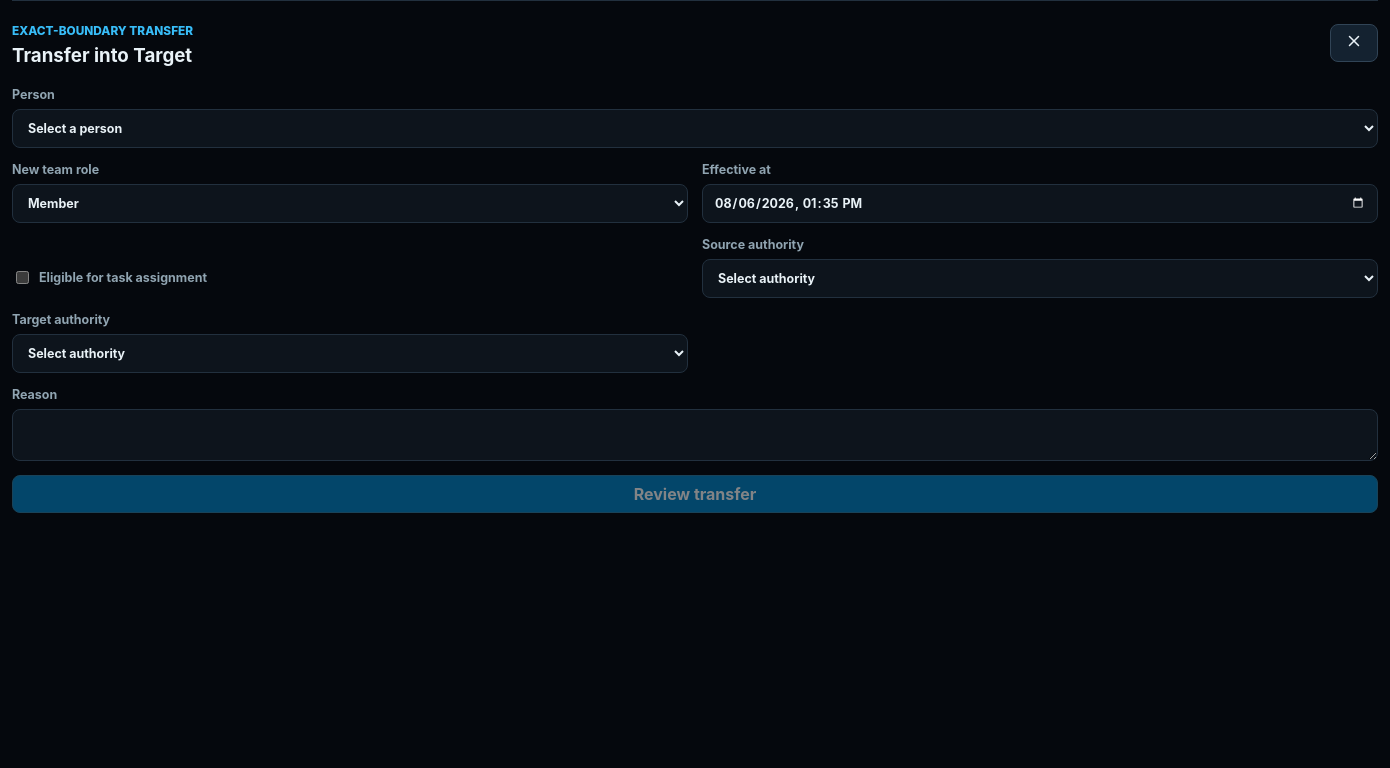
Test case: reports a failed transfer command without an authenticated session
Select "Synthetic Analyst" in the dropdown labelled "Person" at [695, 128], box [12,109,1378,148]
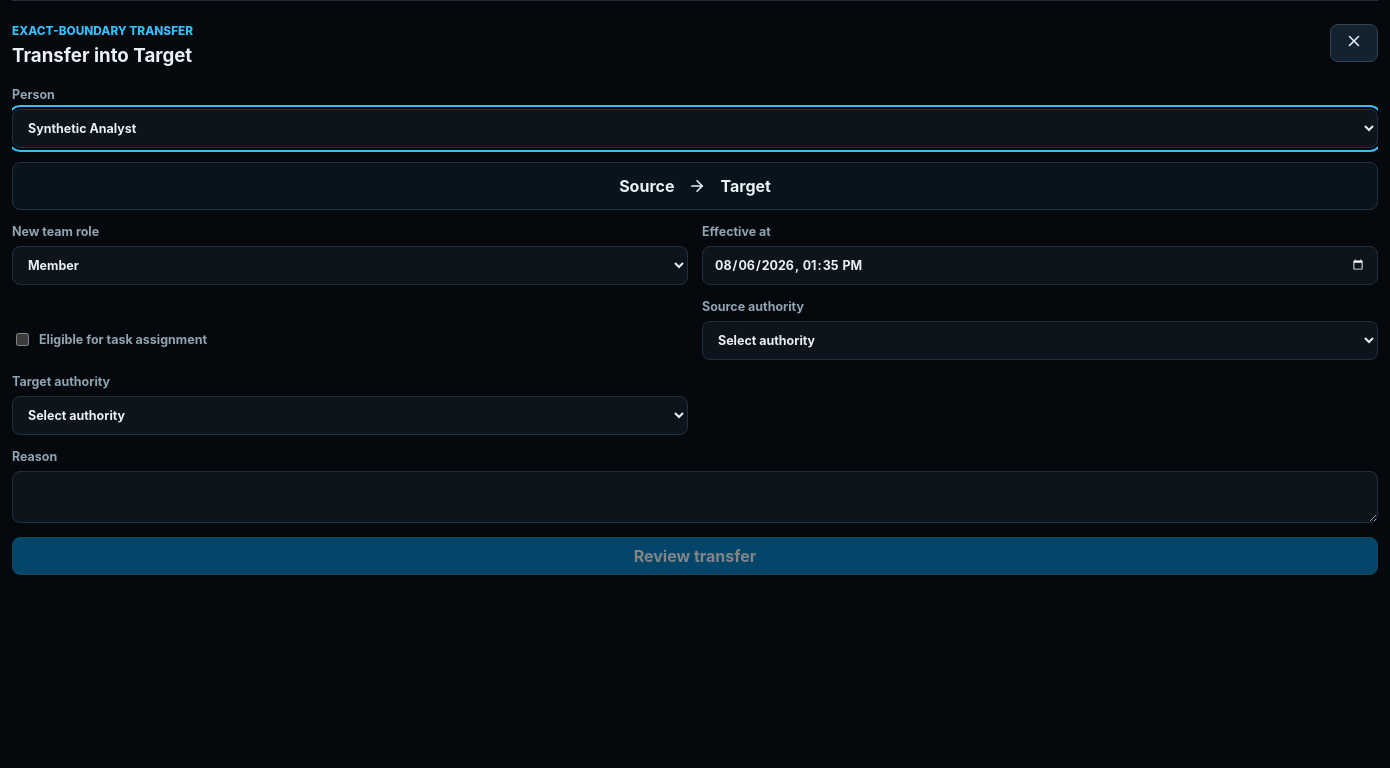
Expected: the text "Source" is shown, [619,176,674,196]
Select "Descendant scope" in the dropdown labelled "Source authority" at [1040, 340], box [702,321,1378,360]
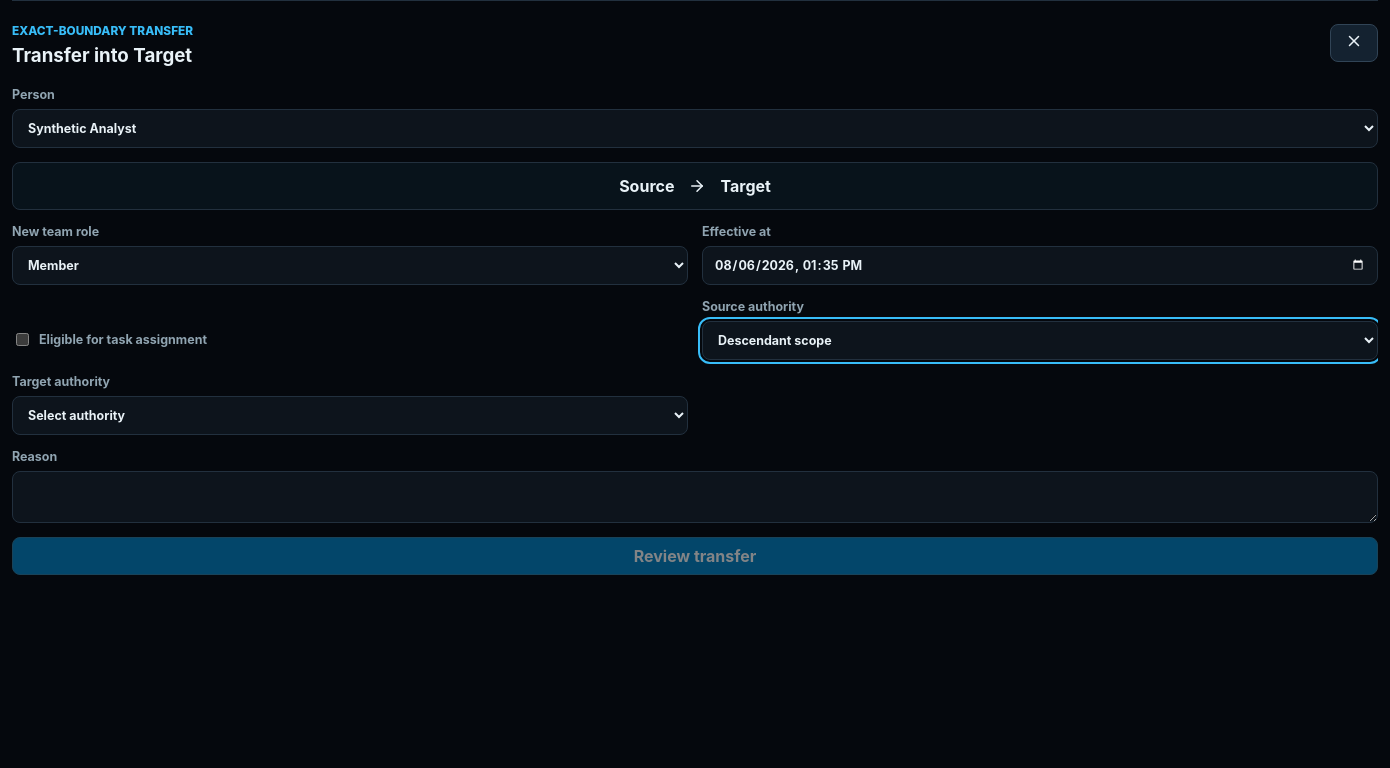
Select "Descendant scope" in the dropdown labelled "Target authority" at [350, 416], box [12,396,688,435]
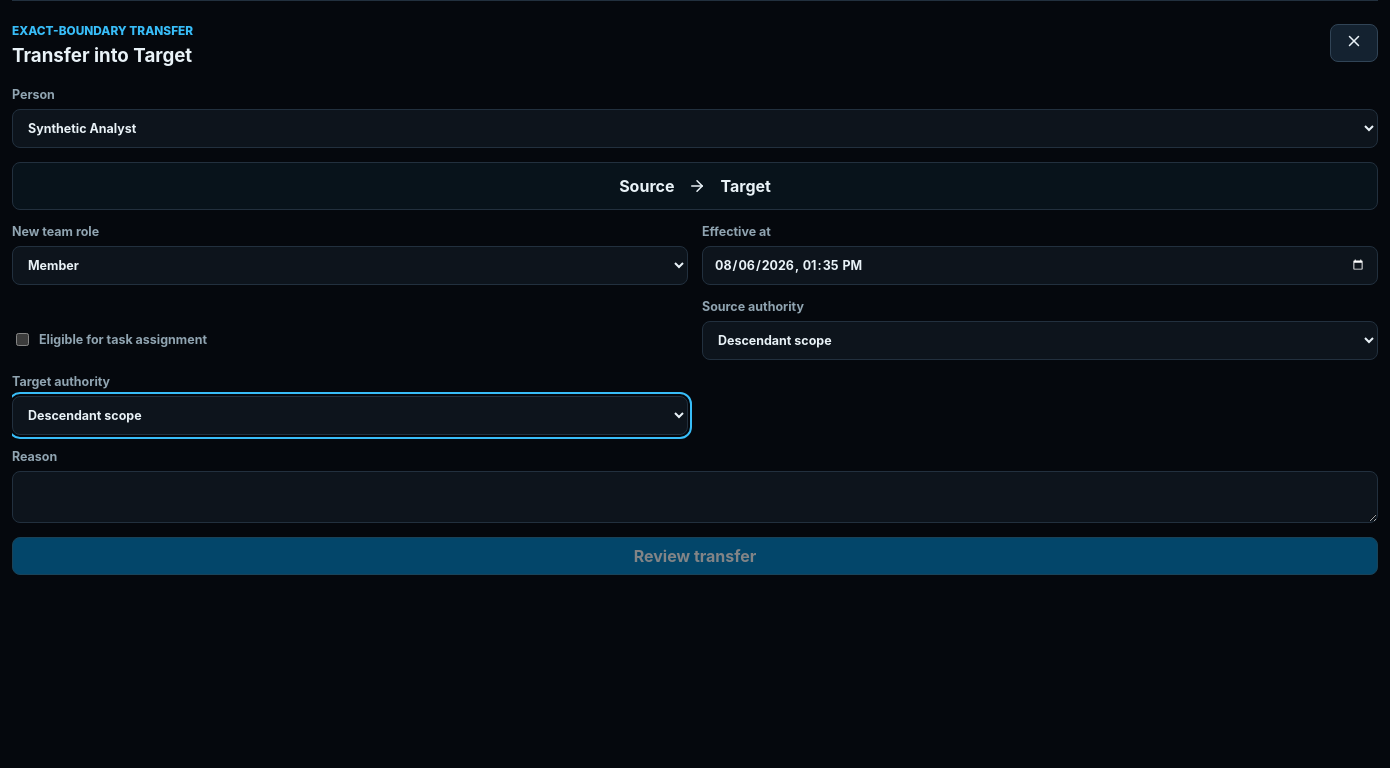
Type "Review the synthetic transfer." into the text box labelled "Reason" at [695, 497], box [12,471,1378,523]
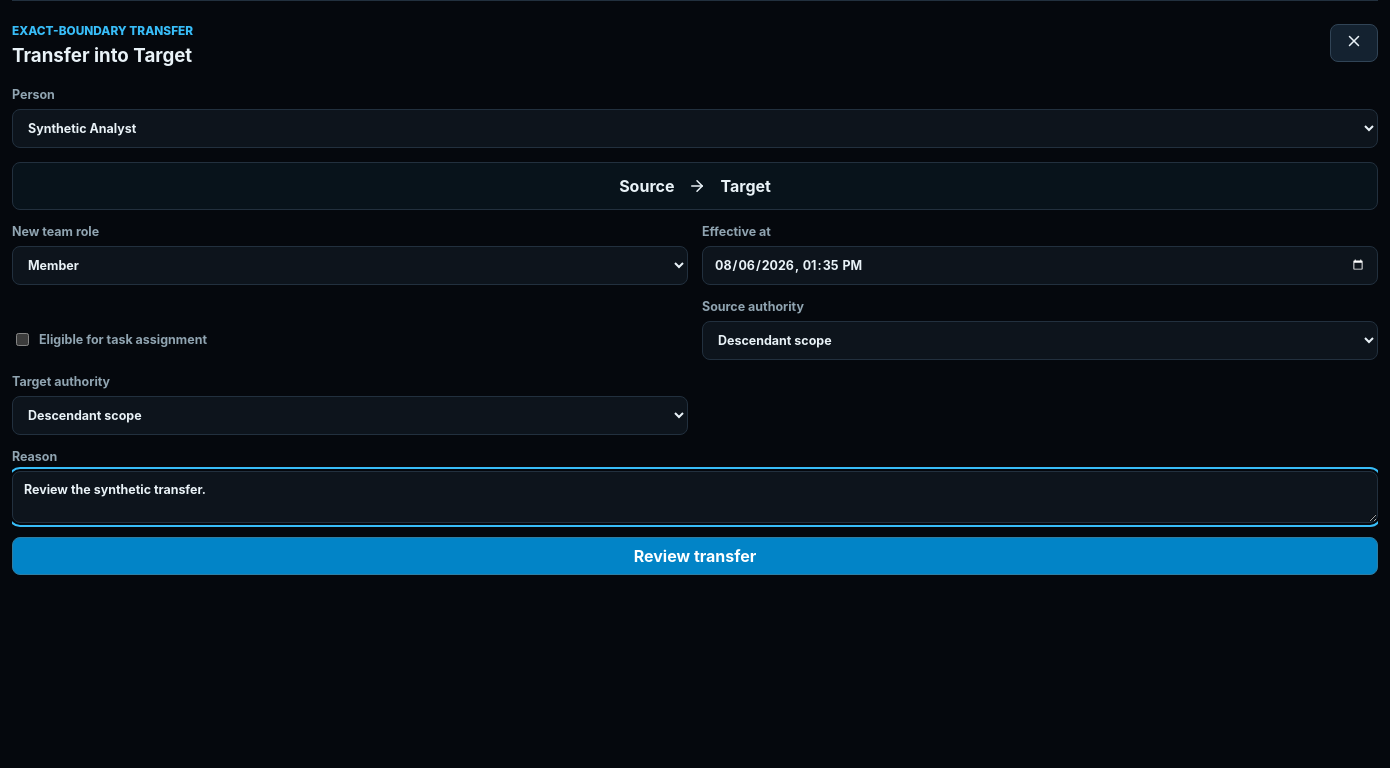
Click the button "Review transfer" at [695, 556], box [12,537,1378,575]
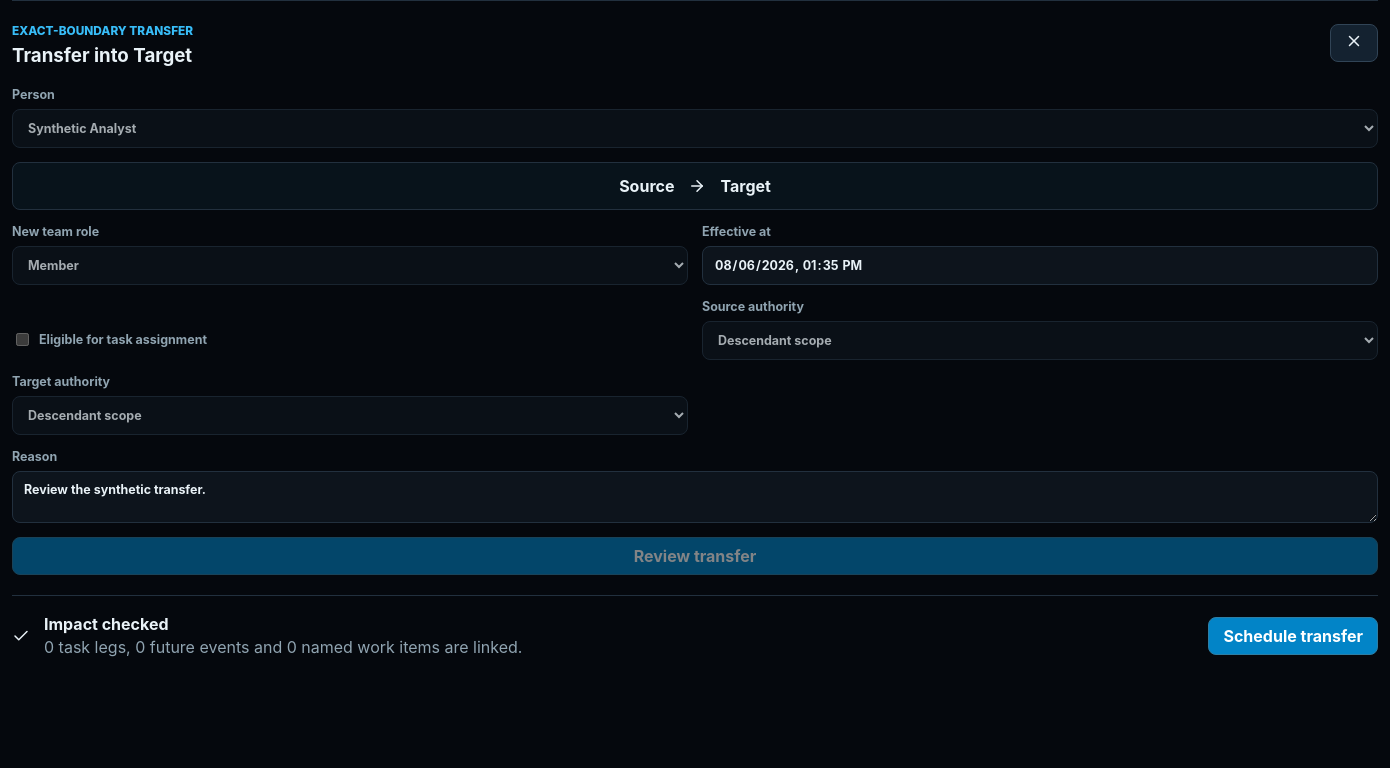
Click the button "Schedule transfer" at [1293, 636], box [1208,616,1378,654]
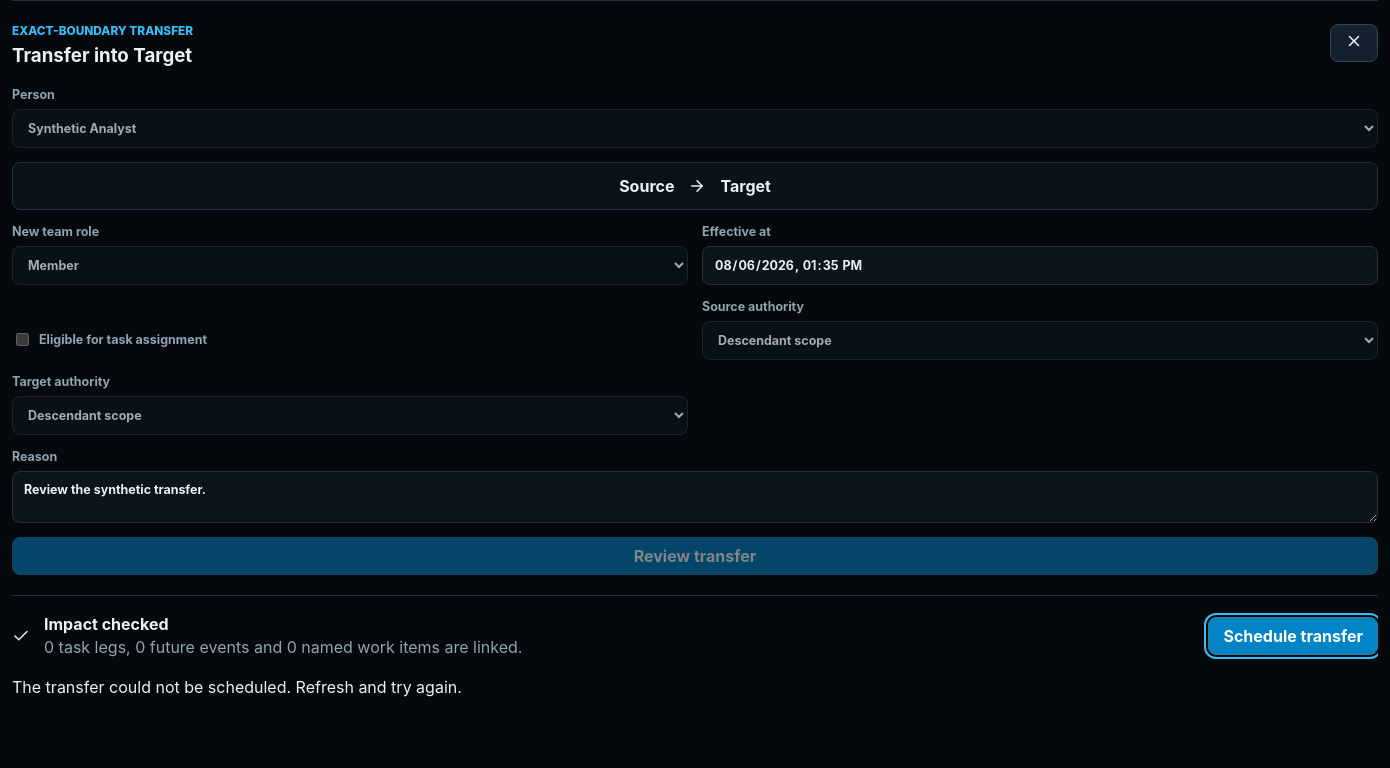
Expected: the text "The transfer could not be scheduled. Refresh and try again." is shown, [12,677,462,697]
